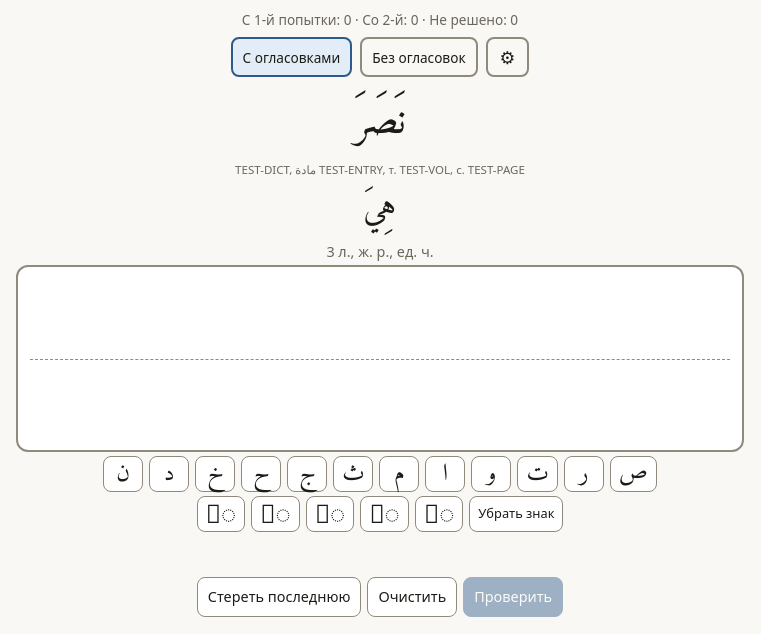
Test: App: ход тренировки › режим без огласовок › сразу после переключения ответ из букв засчитывается в этом же задании с 1-й попытки
Step 1. Click the button with test id "mode-plain" → (419, 57), box top-left (360, 37), bottom-right (478, 77)
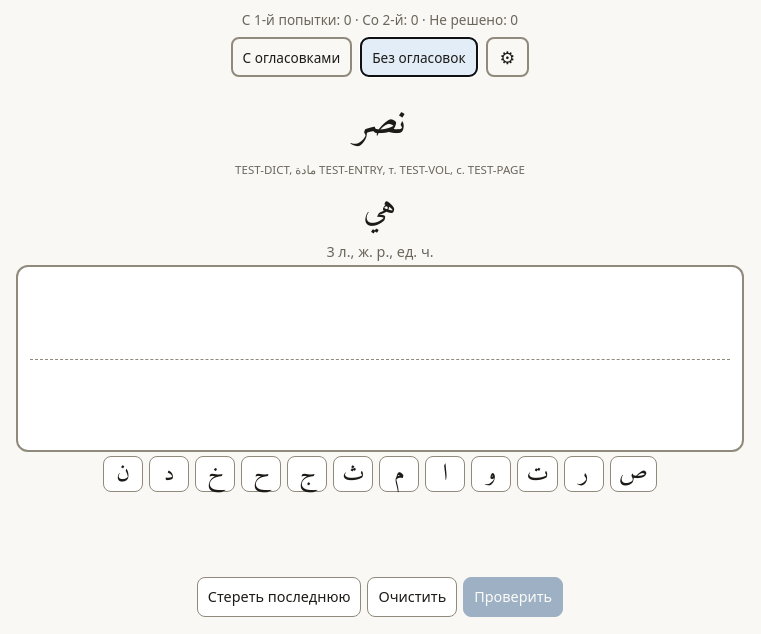
Step 2. Click the button with test id "letter-ن" → (123, 474), box top-left (103, 456), bottom-right (143, 492)
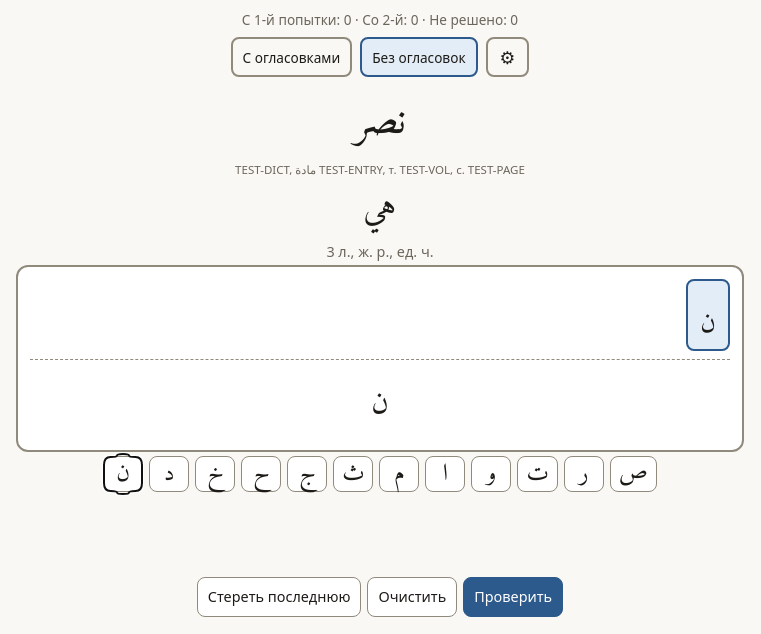
Step 3. Click the button with test id "letter-ص" → (633, 474), box top-left (610, 456), bottom-right (657, 492)
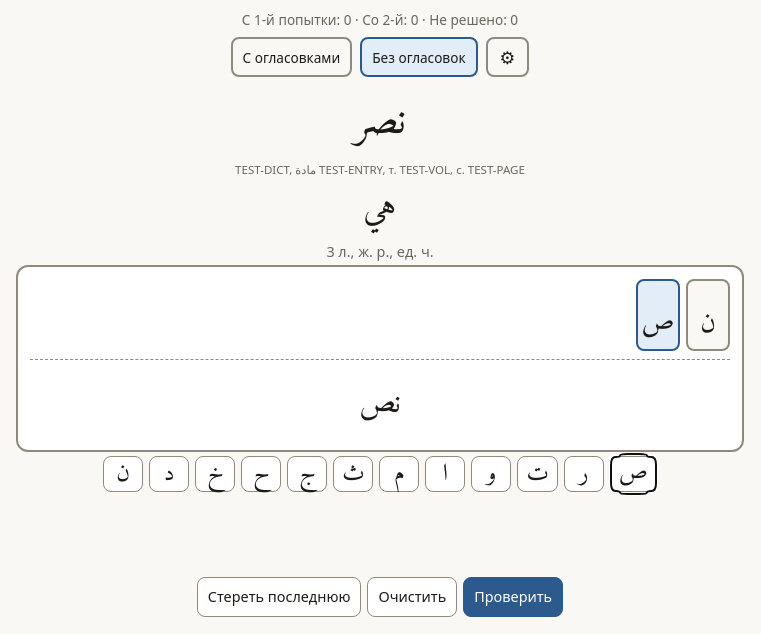
Step 4. Click the button "ر" → (584, 474), box top-left (564, 456), bottom-right (604, 492)
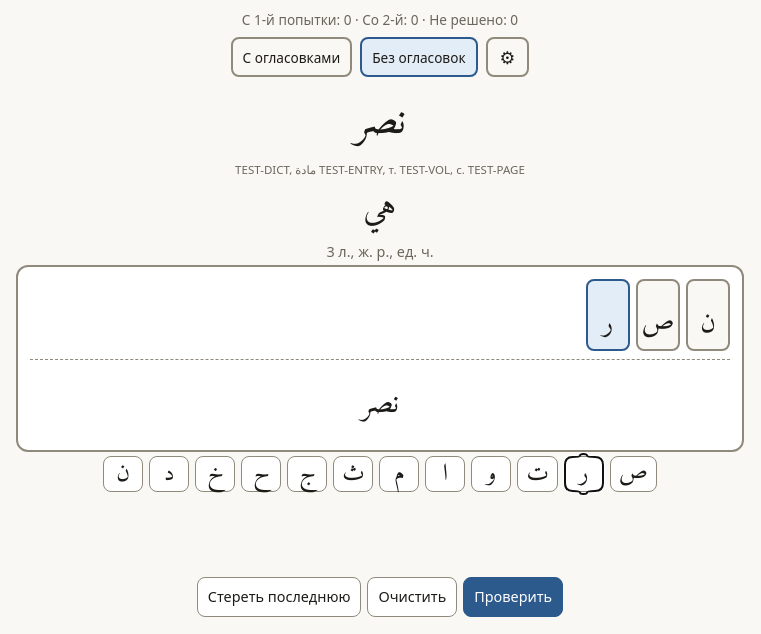
Step 5. Click the button "ت" → (538, 474), box top-left (518, 456), bottom-right (558, 492)
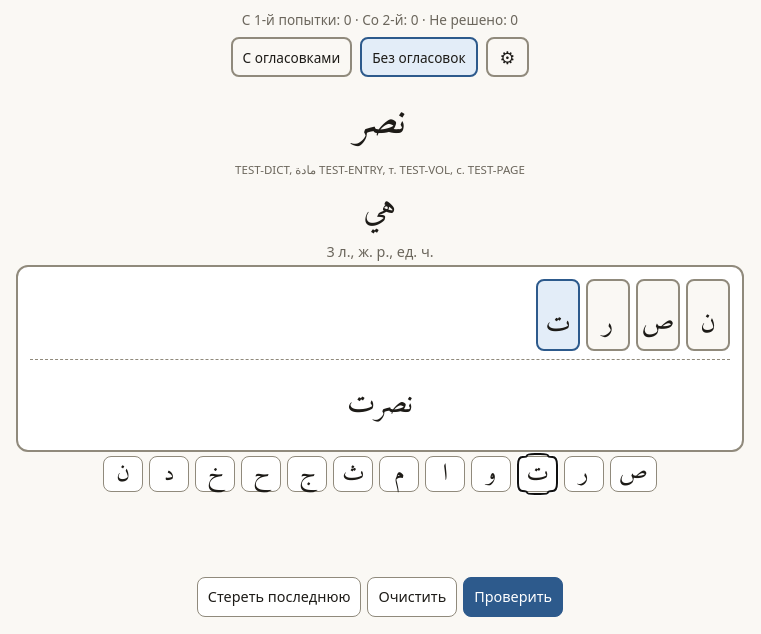
Step 6. Click the button "Проверить" → (513, 597), box top-left (463, 577), bottom-right (563, 617)
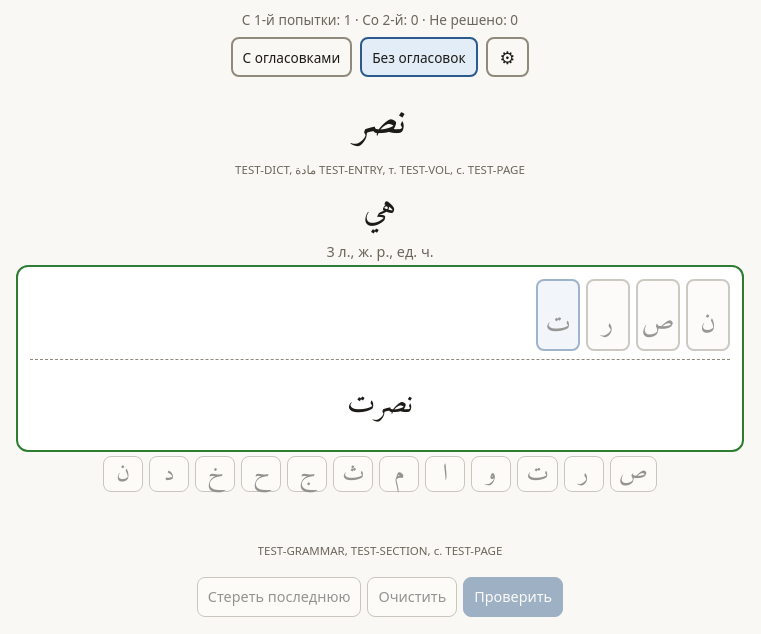
expect the text with test id "counter" reads "С 1-й попытки: 1 · Со 2-й: 0 · Не решено: 0": met, box top-left (242, 10), bottom-right (518, 29)
